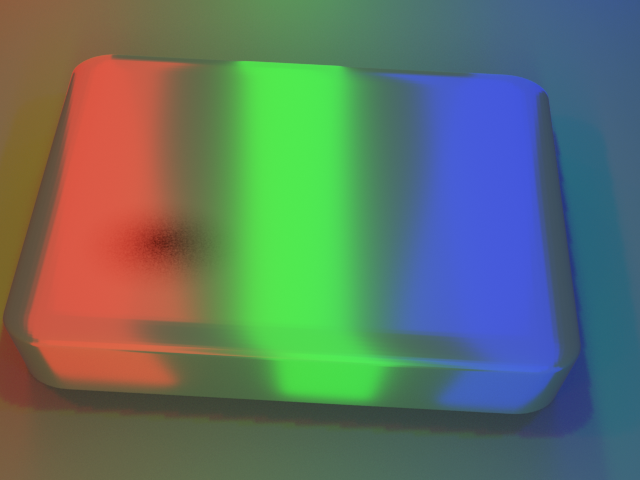stain: (5, 159, 267, 311)
